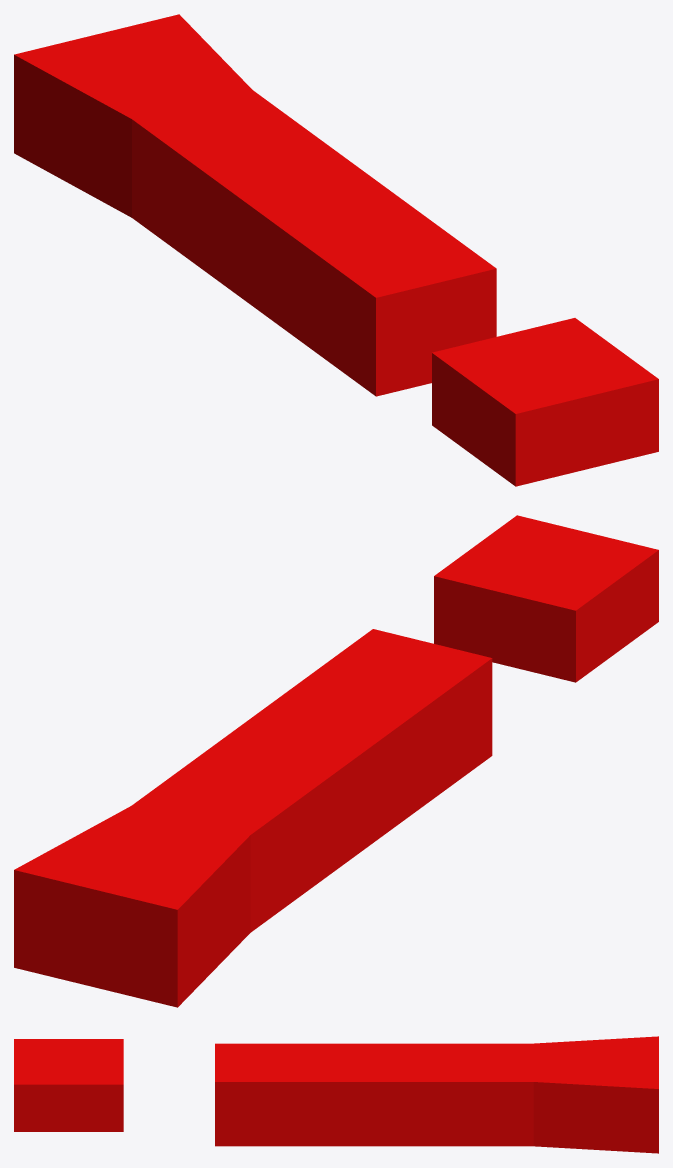
Rendered from MetalGearSolid_!.FBX.
The picture shows the model from 3 angles, top to bottom: view 1: azimuth 30°, elevation 25°; view 2: azimuth 150°, elevation 25°; view 3: azimuth 270°, elevation 25°; orthographic projection. The views are drawn at different scales.
Visible parts, largest first — view 1: Box001, Box002; view 2: Box001, Box002; view 3: Box001, Box002.
Boxes of the visible parts, x1,y1,x2,y2 form: Box001: (14,14,496,396); Box002: (432,318,658,486); Box001: (14,629,492,1007); Box002: (434,515,658,682); Box001: (215,1036,658,1153); Box002: (14,1039,123,1131).
Size of the model in its own units: 11.35 by 6.48 by 58.72.
